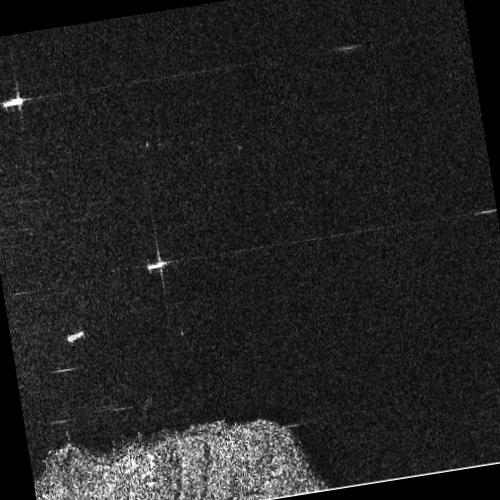ship: (3, 97, 25, 109), (147, 261, 169, 271), (68, 331, 84, 343)
